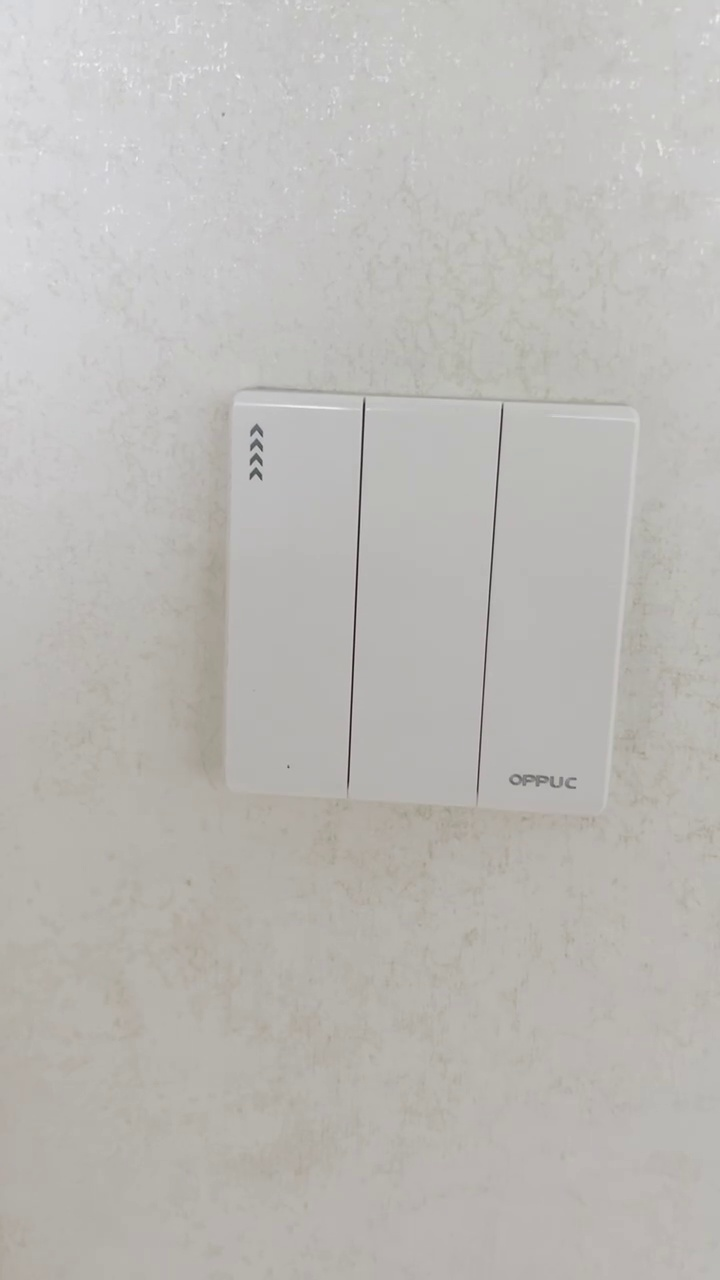button1: (486, 413, 623, 815), (352, 405, 491, 797), (229, 398, 357, 793)
